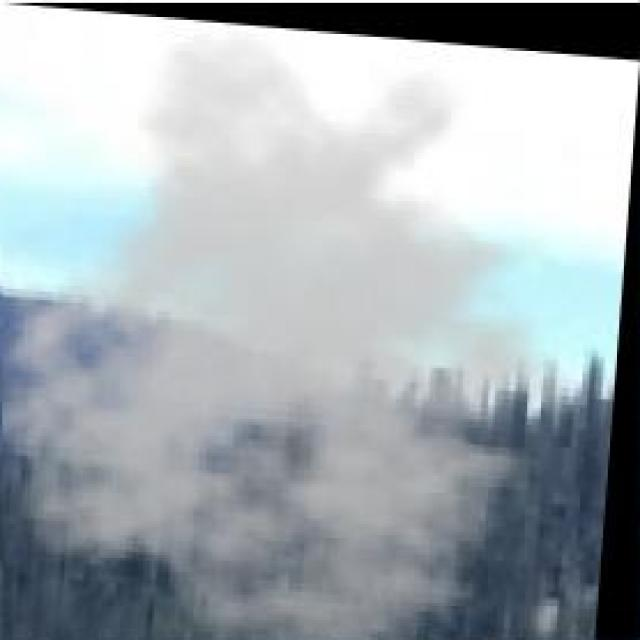smoke: (2, 3, 640, 640)
